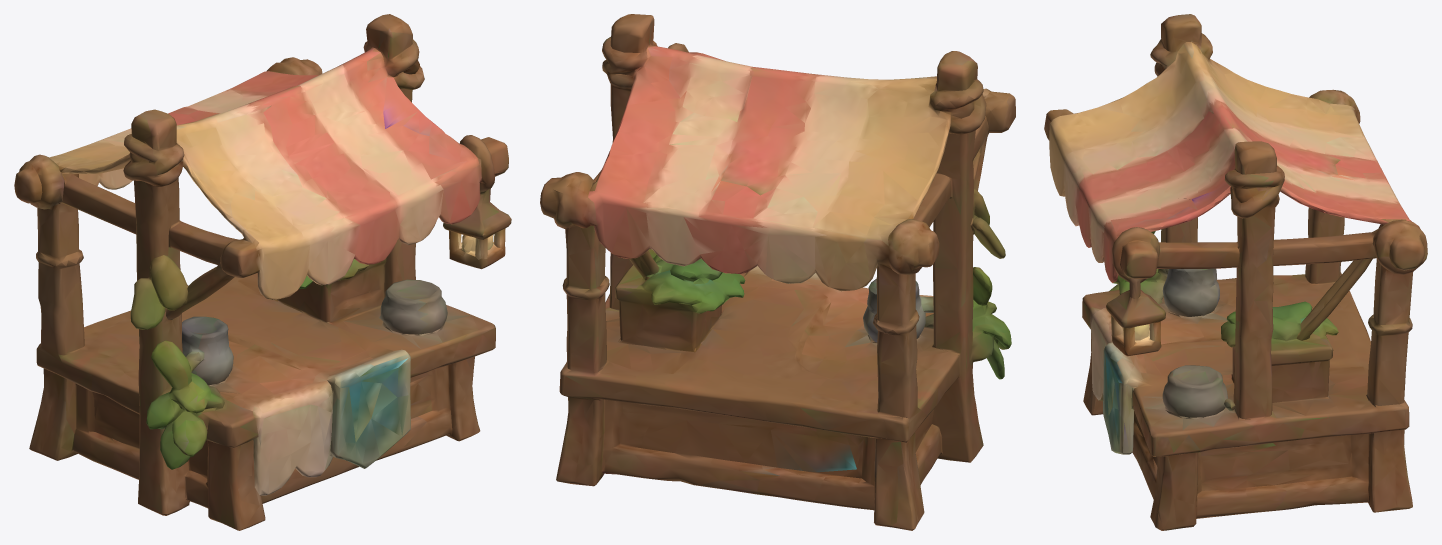
Rendered from puesto.glb.
The picture shows the model from 3 angles, left to right: view 1: azimuth 30°, elevation 25°; view 2: azimuth 150°, elevation 25°; view 3: azimuth 270°, elevation 25°; orthographic projection. The views are drawn at different scales.
Visible parts, largest first — view 1: puesto_malla; view 2: puesto_malla; view 3: puesto_malla.
Part boxes in pixels (x1,y1,x2,y2): puesto_malla: (14, 14, 511, 530); puesto_malla: (540, 14, 1015, 530); puesto_malla: (1044, 14, 1427, 530).
Size of the model in its own units: 0.2261 by 0.2177 by 0.2048.
Materials: 1 (1 with a texture image).
